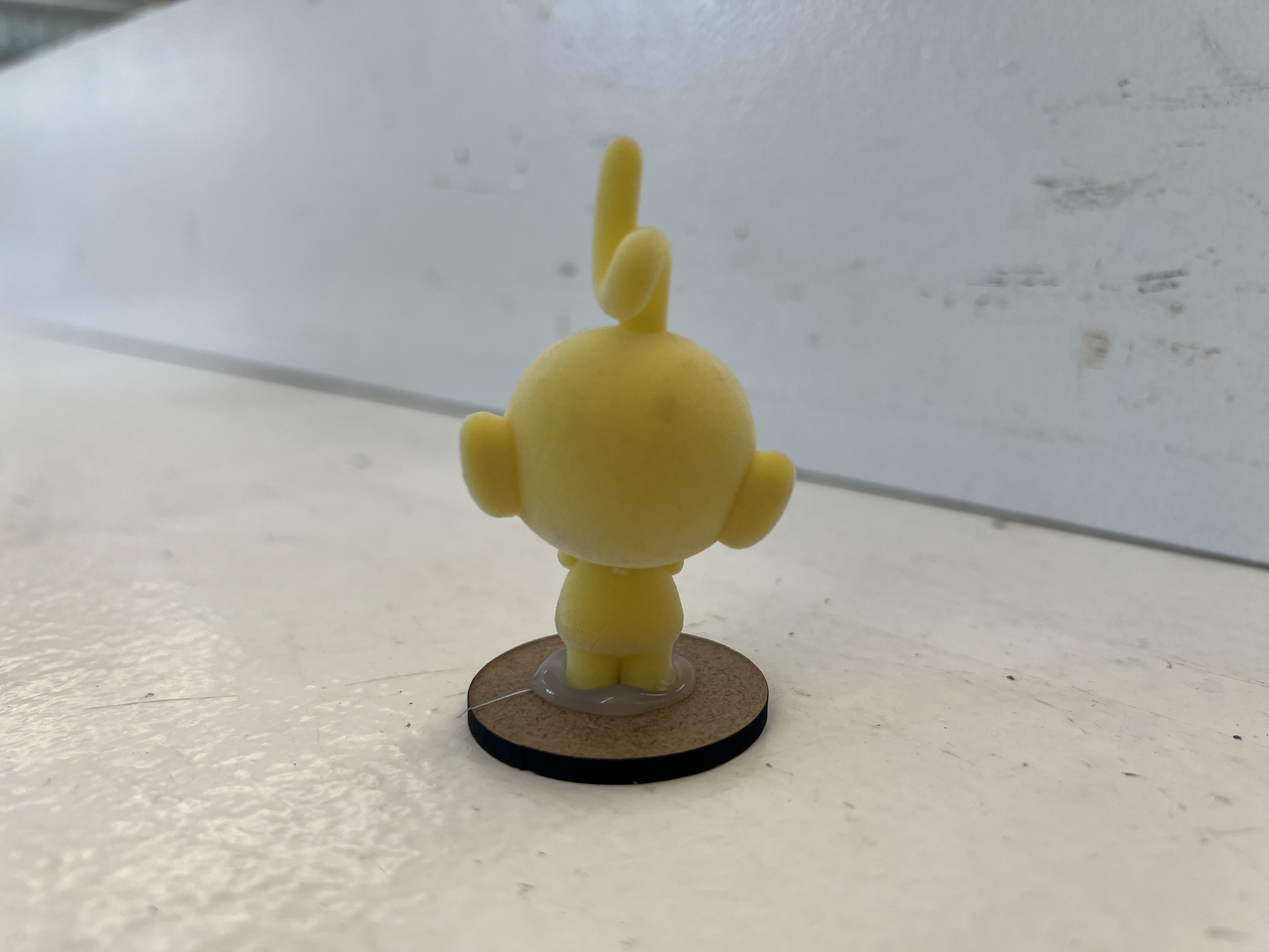teletubby: (460, 140, 795, 691)
